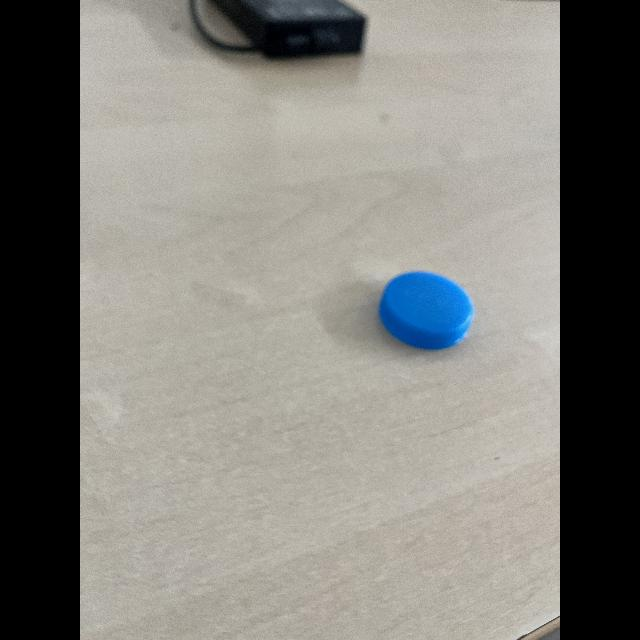plastic_bottle_cap: (368, 266, 482, 352)
